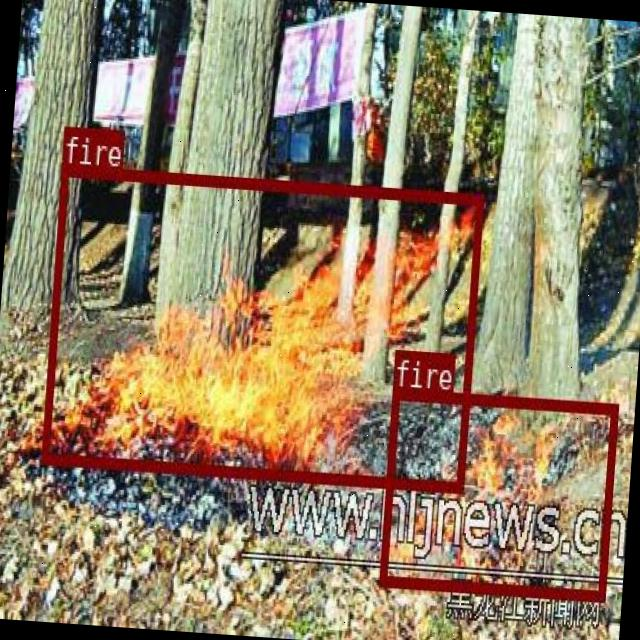fire: (40, 162, 482, 490), (377, 388, 616, 600)
